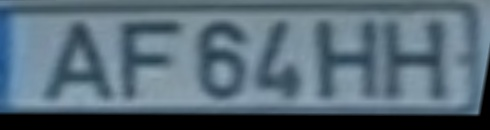4: (254, 17, 305, 102)
6: (192, 16, 254, 106)
A: (37, 19, 116, 102)
F: (119, 20, 186, 105)
H: (313, 18, 382, 102), (382, 19, 448, 103)
